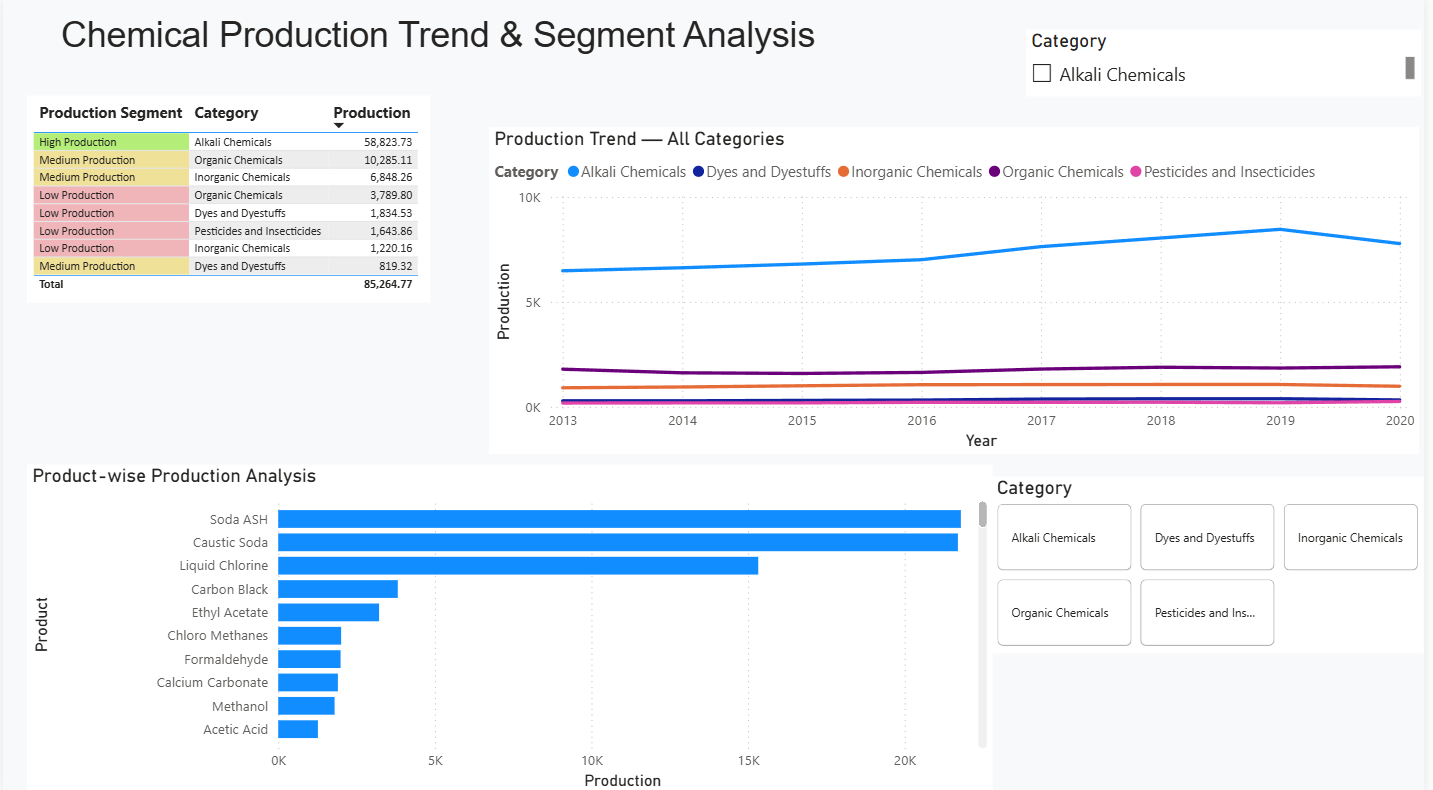

This screenshot's page, from the dashboard's own definition file:
{"tool":"powerbi","page":{"name":"Page 2","canvas":[1280,720],"ordinal":1},"visuals":[{"type":"tableEx","fields":{"Values":["chemicals production category.Production Category","chemicals production category.Category","Sum(chemicals production category.Production)"]},"box":[21.1,90.8,363.2,186.8],"z":0},{"type":"lineChart","fields":{"Category":["Chemical.Year"],"Series":["Chemical.Category"],"Y":["Sum(Chemical.Production)"]},"box":[438.2,118.4,838.2,294.7],"z":1000},{"type":"listSlicer","fields":{"Values":["Chemical.Category"]},"box":[921.5,30.8,355.4,60],"z":2000},{"type":"textbox","box":[47.4,11.8,830.3,61.8],"z":3000},{"type":"textbox","box":[0,434.2,252.6,285.5],"z":4000},{"type":"clusteredBarChart","title":"Product-wise Production Analysis","fields":{"Category":["Chemical.Product"],"Y":["Sum(Chemical.Production)"]},"box":[21.1,422.4,869.7,297.4],"z":5000},{"type":"advancedSlicerVisual","fields":{"Values":["Chemical.Category"]},"box":[890.8,434.2,389.5,159.2],"z":6000}]}

Visuals, with their boxes in screenshot pixels (x1, y1, x2, y2), scaled from the page's 1280x720 canvas onto the 1433x790 screenshot:
tableEx - chemicals production category.Production Category x chemicals production category.Category: <region>24, 100, 430, 305</region>
lineChart - Chemical.Year x Chemical.Category: <region>491, 130, 1429, 453</region>
listSlicer - Chemical.Category: <region>1032, 34, 1430, 100</region>
textbox: <region>53, 13, 983, 81</region>
textbox: <region>0, 476, 283, 789</region>
"Product-wise Production Analysis" clusteredBarChart: <region>24, 463, 997, 789</region>
advancedSlicerVisual - Chemical.Category: <region>997, 476, 1432, 651</region>
